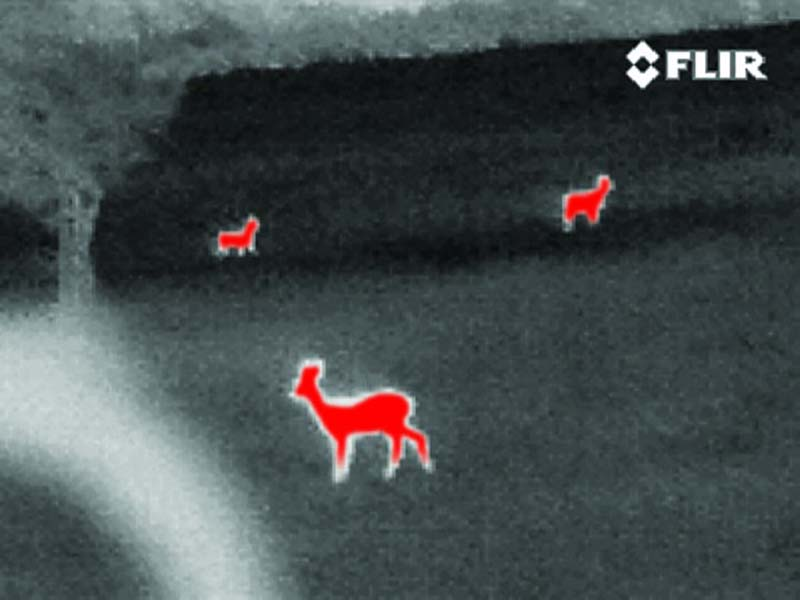cervo: (289, 359, 442, 488), (561, 167, 616, 244), (214, 209, 266, 261)
